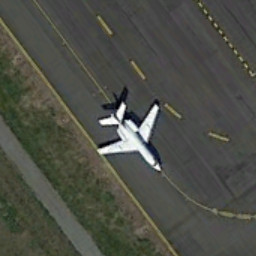Airplane: (81, 82, 173, 183)
